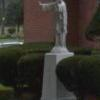Statue: (32, 0, 77, 59)
